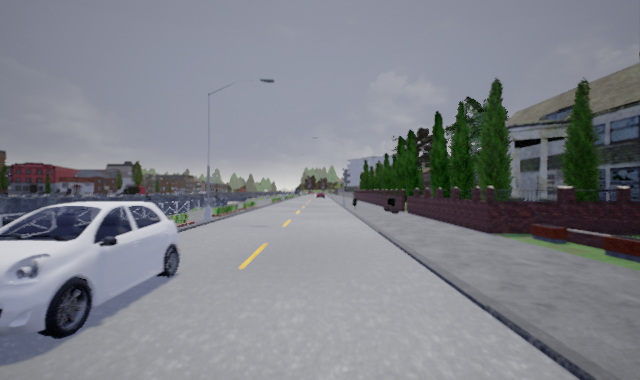vehicle: (1, 198, 182, 341)
